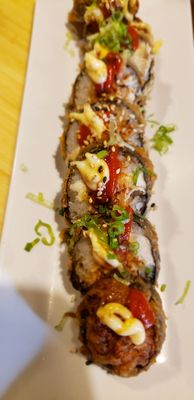sandwich: (55, 8, 174, 389)
